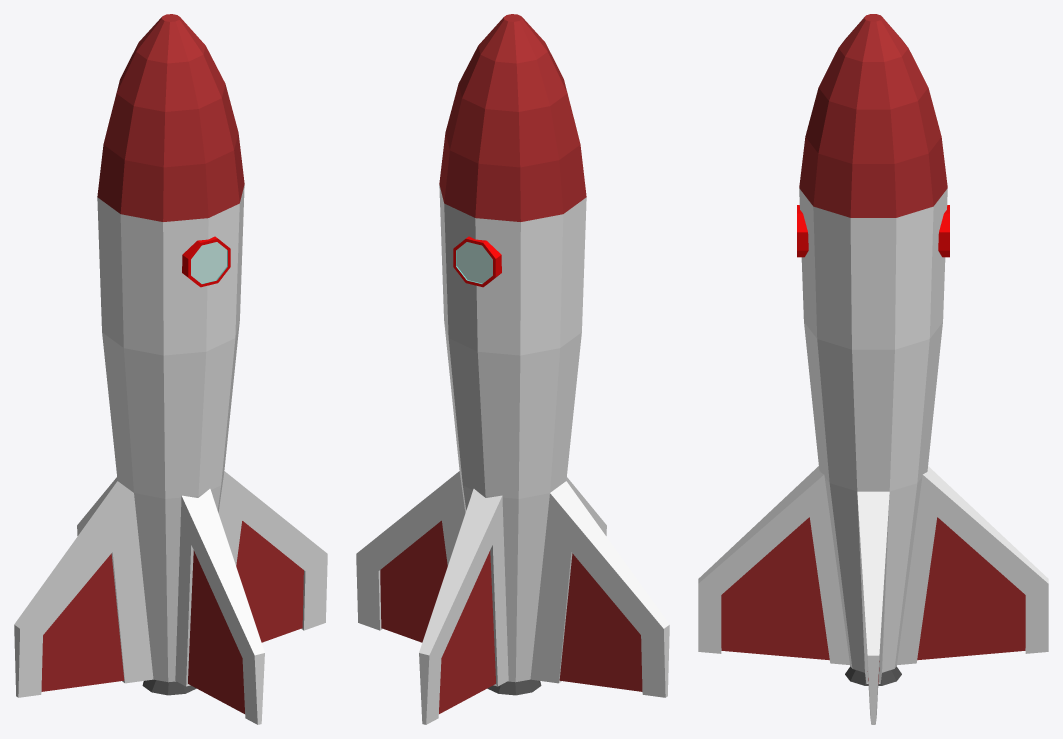
Rendered from rocket.glb.
The picture shows the model from 3 angles, left to right: view 1: azimuth 30°, elevation 25°; view 2: azimuth 150°, elevation 25°; view 3: azimuth 270°, elevation 25°; orthographic projection.
Parts seen in each view (by area): view 1: Rocket; view 2: Rocket; view 3: Rocket.
Part boxes in pixels (x1,y1,x2,y2): Rocket: [14, 14, 327, 724]; Rocket: [356, 14, 669, 724]; Rocket: [698, 14, 1048, 724].
Bounding box in the file's own units: 6.59 × 13.62 × 6.59.
Materials: 1 (1 with a texture image).
